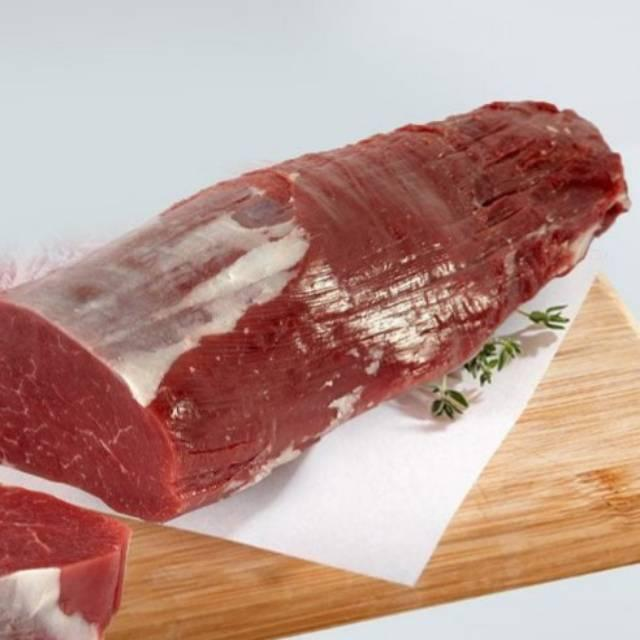beef: (4, 88, 640, 529)
